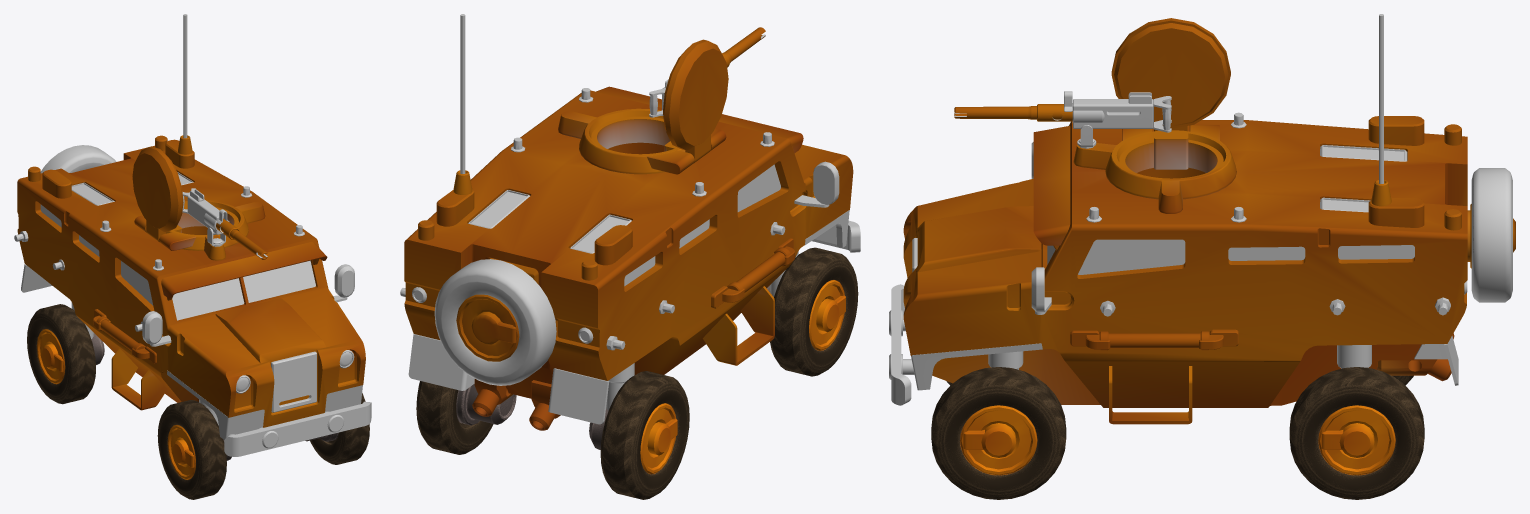
Rendered from mrap0-export.fbx.
3 views of the same model, side by side, from view 1: azimuth 30°, elevation 25°; view 2: azimuth 150°, elevation 25°; view 3: azimuth 270°, elevation 25° (orthographic). The views are drawn at different scales.
Visible parts, largest first — view 1: lp2, lp2.004, lp2.003, lp2.002, lp2.005; view 2: lp2, lp2.004, lp2.003, lp2.001, lp2.005; view 3: lp2, lp2.002, lp2.001, lp2.005.
Part boxes in pixels (x1,y1,x2,y2): lp2: (14, 135, 371, 456); lp2.004: (27, 304, 104, 404); lp2.003: (157, 400, 231, 499); lp2.002: (305, 393, 369, 464); lp2.005: (183, 14, 187, 138); lp2: (400, 27, 860, 430); lp2.004: (589, 371, 689, 499); lp2.003: (767, 247, 858, 376); lp2.001: (416, 381, 516, 454); lp2.005: (460, 14, 465, 173); lp2: (889, 18, 1515, 424); lp2.002: (931, 367, 1066, 499); lp2.001: (1289, 367, 1424, 499); lp2.005: (1379, 14, 1383, 183).
Bounding box in the file's own units: 0.3758 × 0.5905 × 0.7099.
